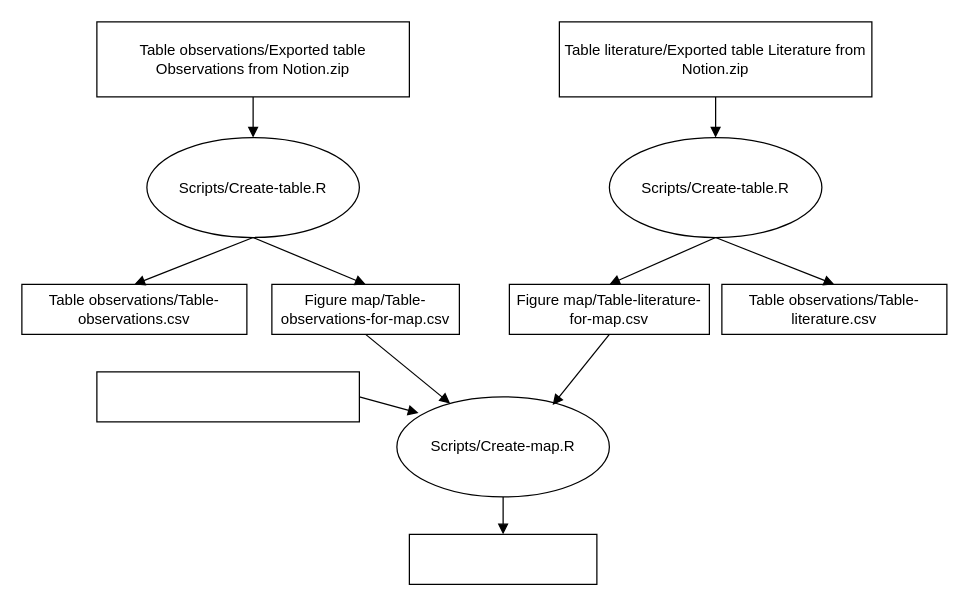
Some shapes in this 969 by 606 pixel diagram are drawn without their labels. The centre of each missing label's shape, as x and y in pixels:
"Figure map/Figure-map-output-R.svg" goes at pixel 502 558.
"Figure map/Point-distribution_FishBase_June24.csv" goes at pixel 227 396.
